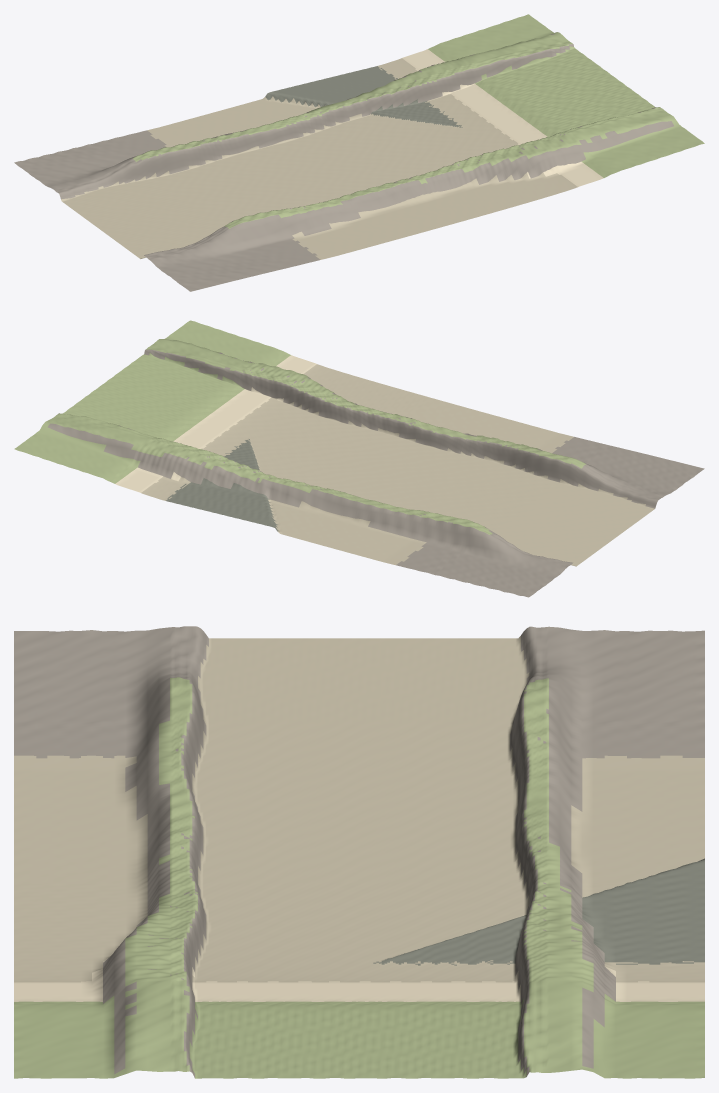
File: terrain.glb
3 renders of one model, top to bottom at view 1: azimuth 30°, elevation 25°; view 2: azimuth 150°, elevation 25°; view 3: azimuth 270°, elevation 25°, orthographic. The views are drawn at different scales.
Visible parts, largest first — view 1: Beach; view 2: Beach; view 3: Beach.
Part boxes in pixels (box(x1,y1,x2,y2)): Beach: box(14, 14, 704, 291); Beach: box(14, 320, 704, 597); Beach: box(14, 626, 704, 1078).
Size of the model in its own units: 418 by 25.02 by 248.
